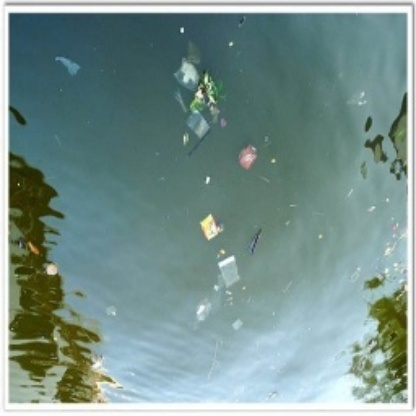plastic-bag: (216, 254, 244, 289)
